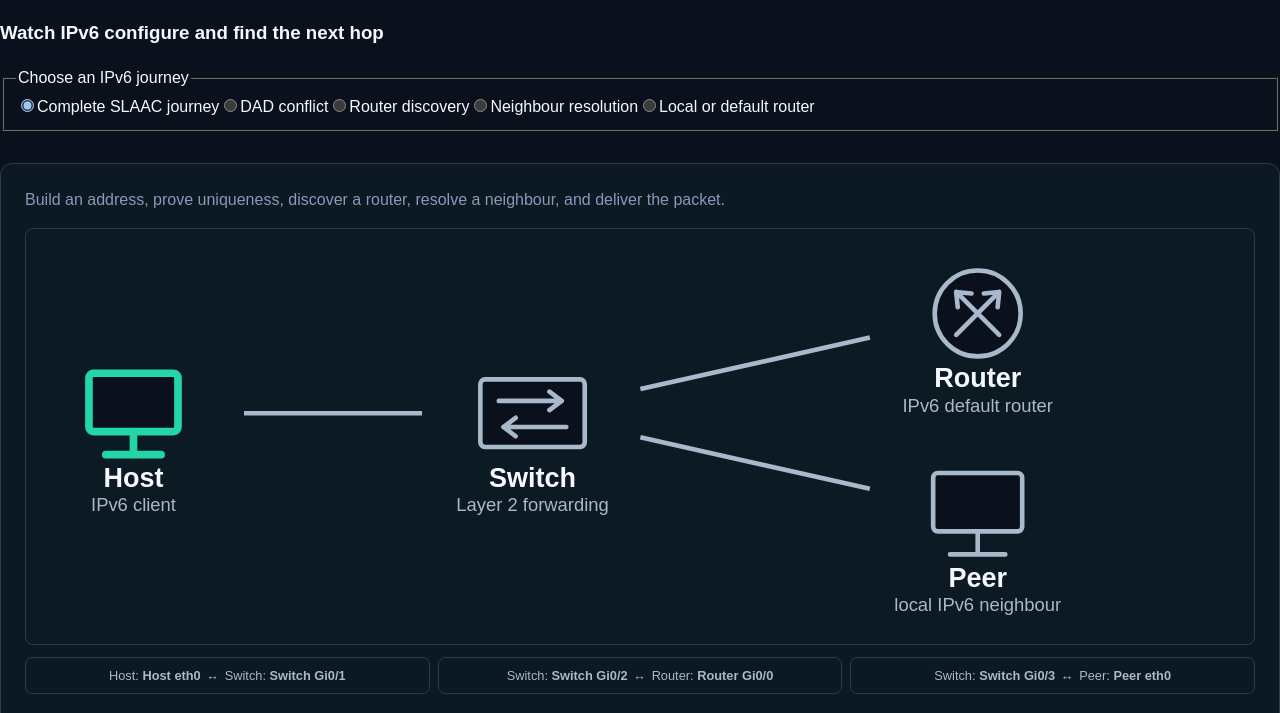
Test: NdpSlaacJourneyPlayer › changes to DAD conflict and resets the journey
This screenshot has width=1280, height=713.
Click the radio button labelled "DAD conflict".
click(231, 106)  # box 224,99 -> 237,112
(page scrolled)
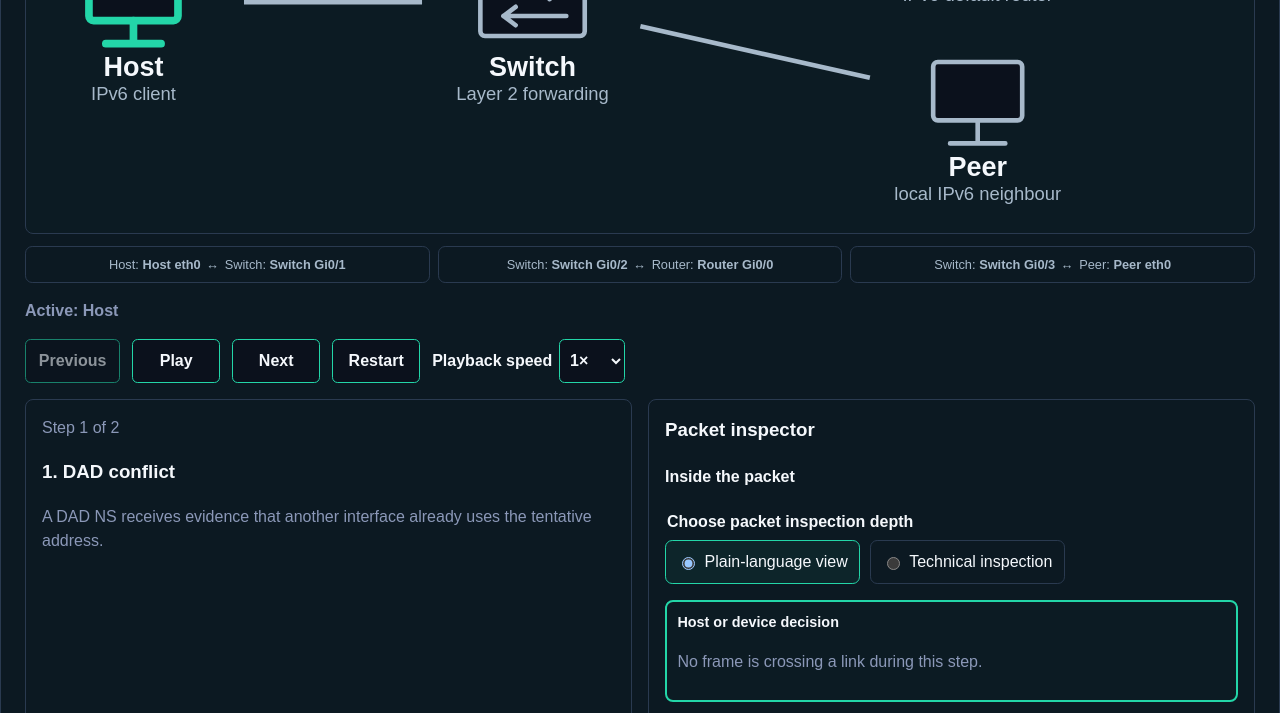
Click the button "Next".
click(276, 361)  # box 232,339 -> 320,383
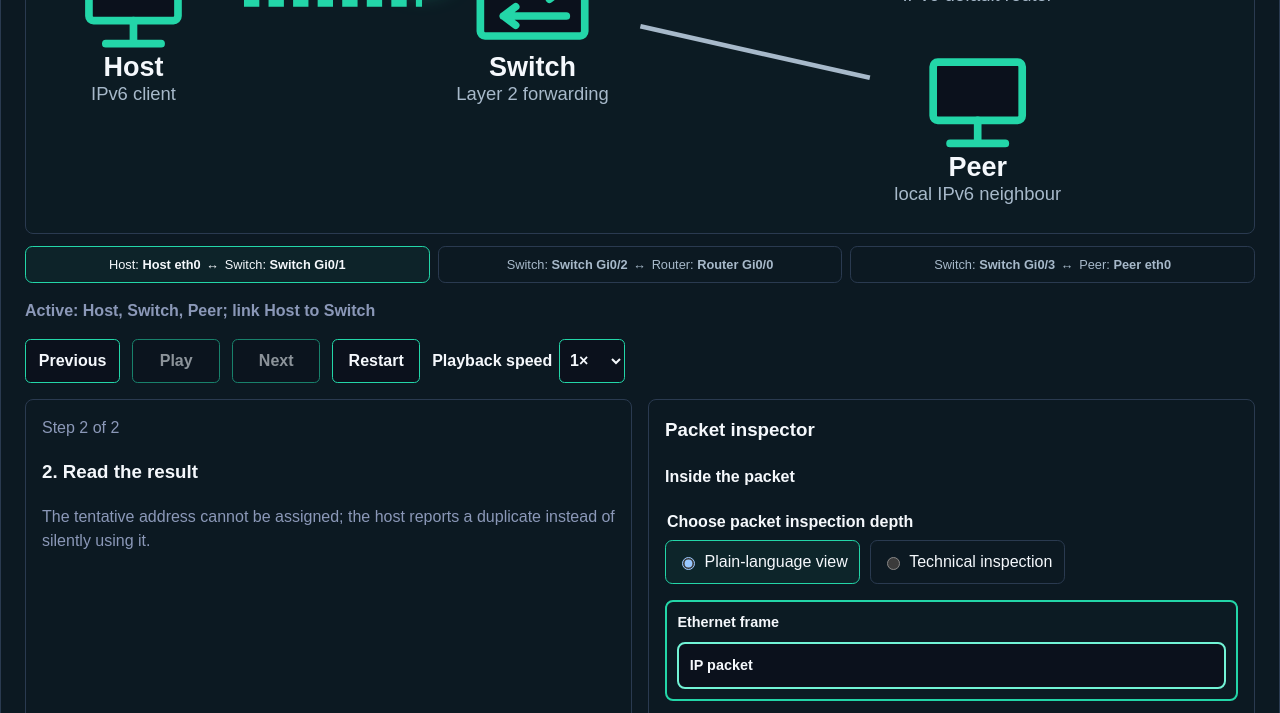
Result: the text "Step 2 of 2" is shown at 42,419 -> 119,436
